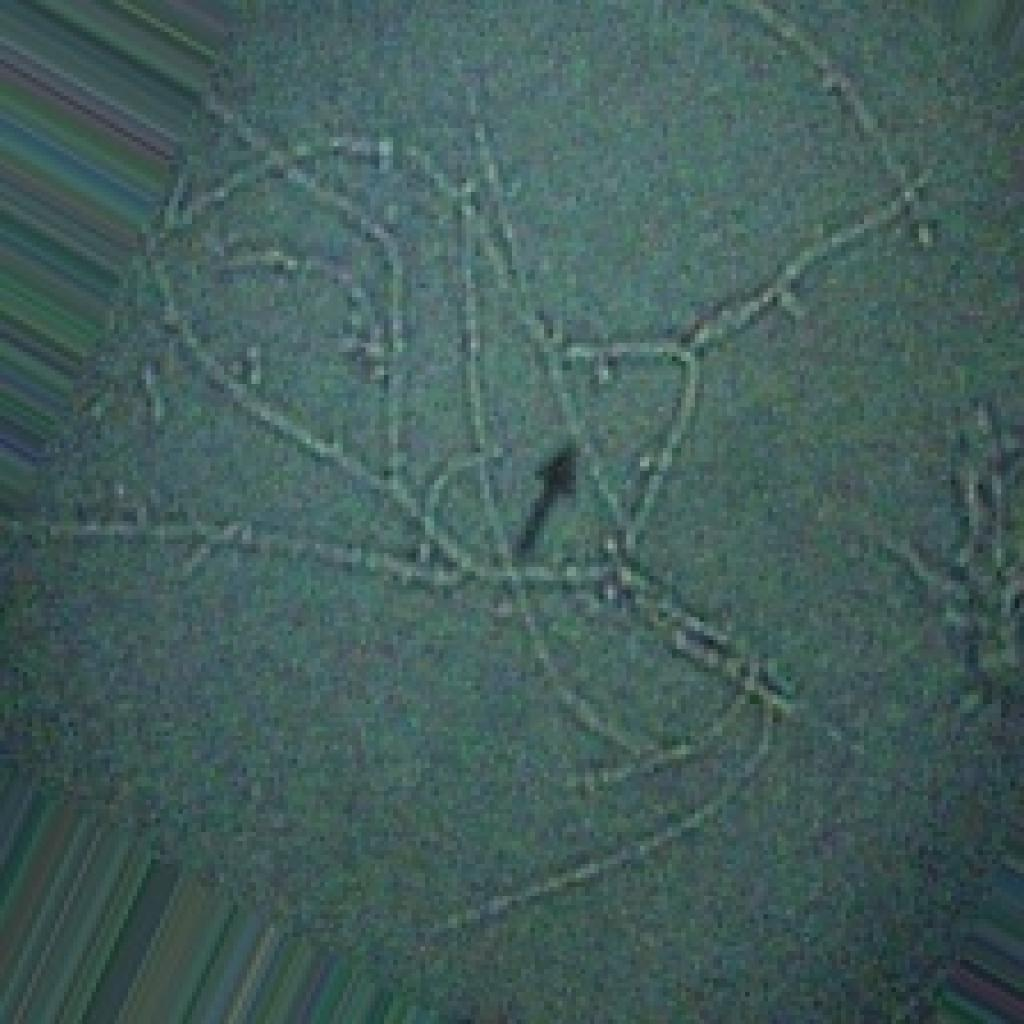Yeast: (72, 80, 918, 951)
